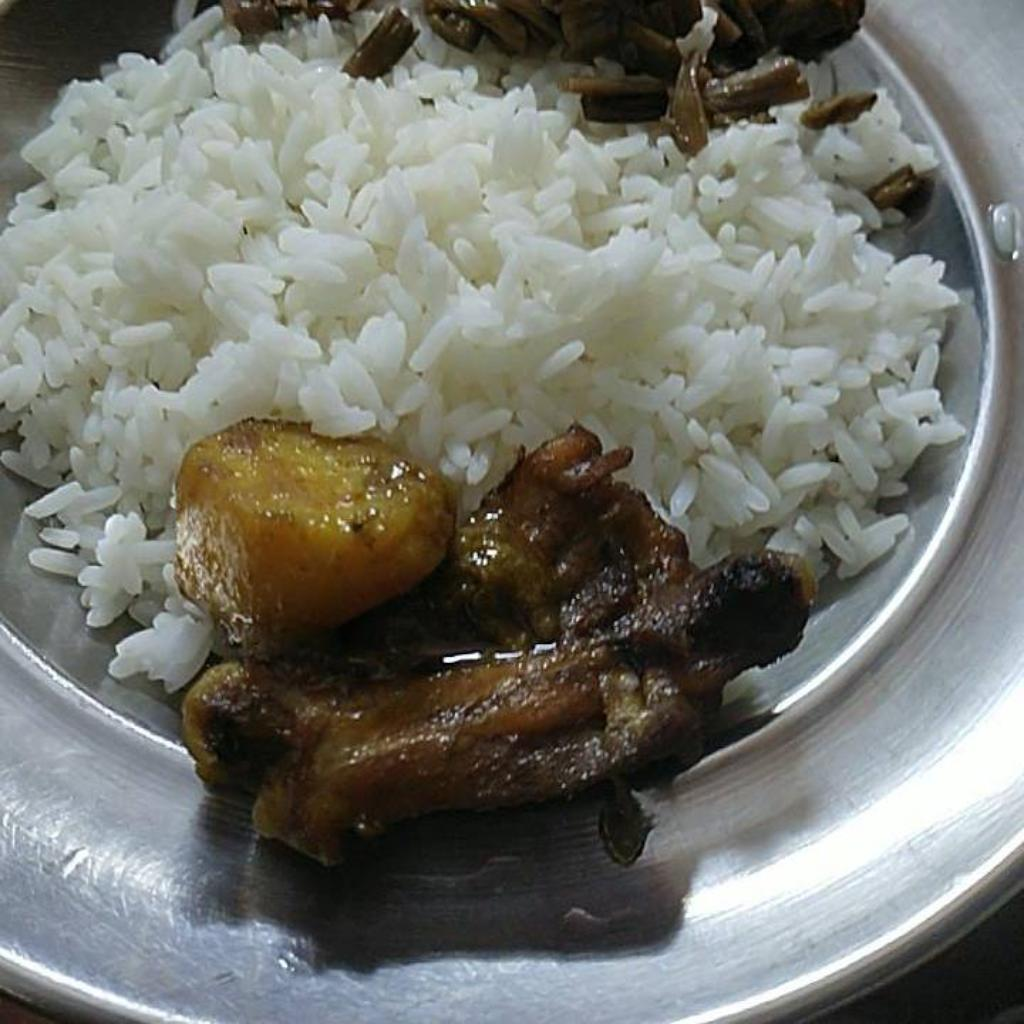chicken: (177, 413, 814, 855)
rice: (0, 19, 956, 686)
